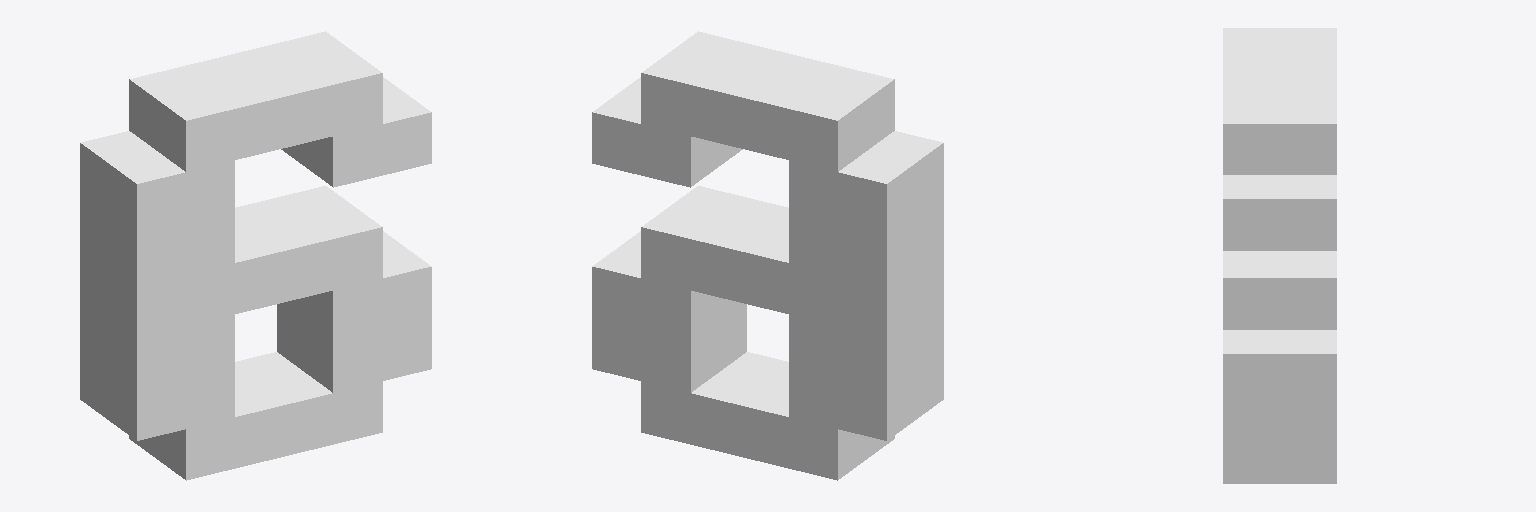
File: Number6.obj
3 renders of one model, left to right at view 1: azimuth 30°, elevation 25°; view 2: azimuth 150°, elevation 25°; view 3: azimuth 270°, elevation 25°, orthographic.
Parts seen in each view (by area): view 1: object 1; view 2: object 1; view 3: object 1.
Part boxes in pixels (left/top/right/bottom): object 1: left=80, top=31, right=431, bottom=480; object 1: left=592, top=31, right=943, bottom=480; object 1: left=1223, top=28, right=1336, bottom=483.
Bounding box in the file's own units: 0.6 × 0.7 × 0.2.